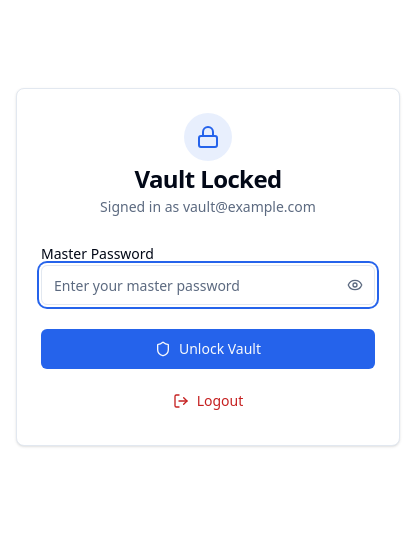
UnlockScreen — client-side unlock rate limiting › warns with the remaining attempts after a failed unlock
Type "wrong" into the password field labelled "Master Password". click: x=208, y=285
box: 41,265 -> 375,305
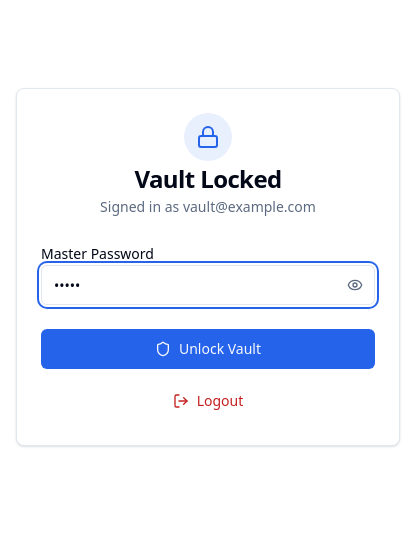
Click the button "Unlock Vault". click: x=208, y=349
box: 41,329 -> 375,369
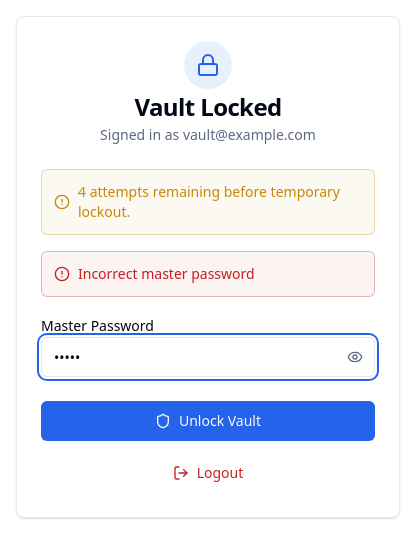
Expected: the button "Unlock Vault" is enabled, 41,401 -> 375,441
Expected: the message "4 attempts remaining before temporary lockout." is shown, 41,169 -> 375,235
